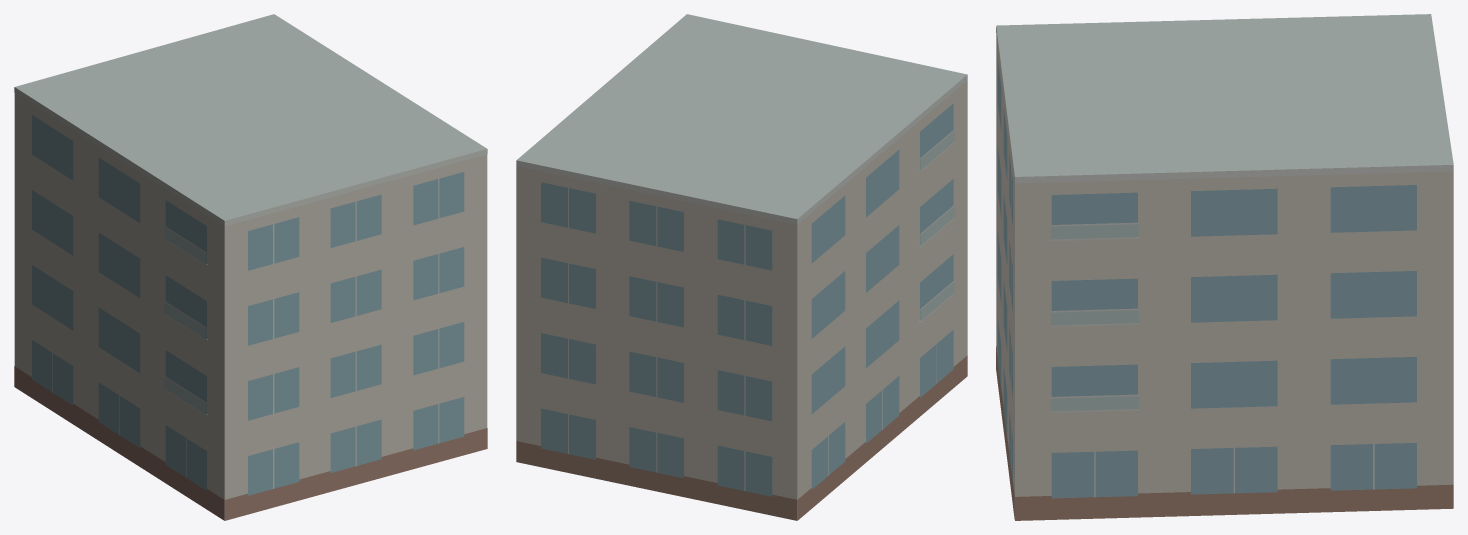
File: survey-upis-32989461.glb
The picture shows the model from 3 angles, left to right: view 1: azimuth 30°, elevation 25°; view 2: azimuth 150°, elevation 25°; view 3: azimuth 270°, elevation 25°; orthographic projection. The views are drawn at different scales.
Parts seen in each view (by area): view 1: survey-upis-32989461.tmp; view 2: survey-upis-32989461.tmp; view 3: survey-upis-32989461.tmp.
Boxes of the visible parts, x1,y1,x2,y2 form: survey-upis-32989461.tmp: [14, 14, 487, 520]; survey-upis-32989461.tmp: [516, 14, 967, 520]; survey-upis-32989461.tmp: [996, 14, 1453, 520].
Bounding box in the file's own units: 13.17 × 12.95 × 15.63.
